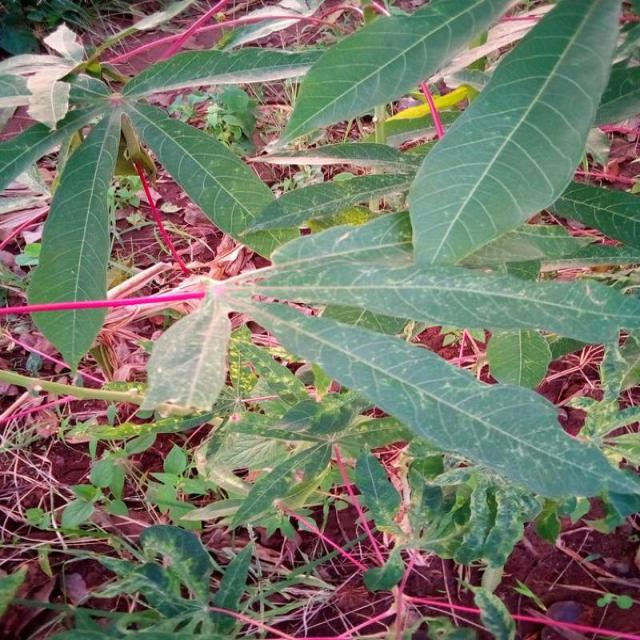cassava leaf: (222, 287, 638, 527), (407, 0, 622, 268), (257, 208, 638, 347), (269, 0, 516, 151), (26, 102, 122, 374), (137, 285, 231, 417)
